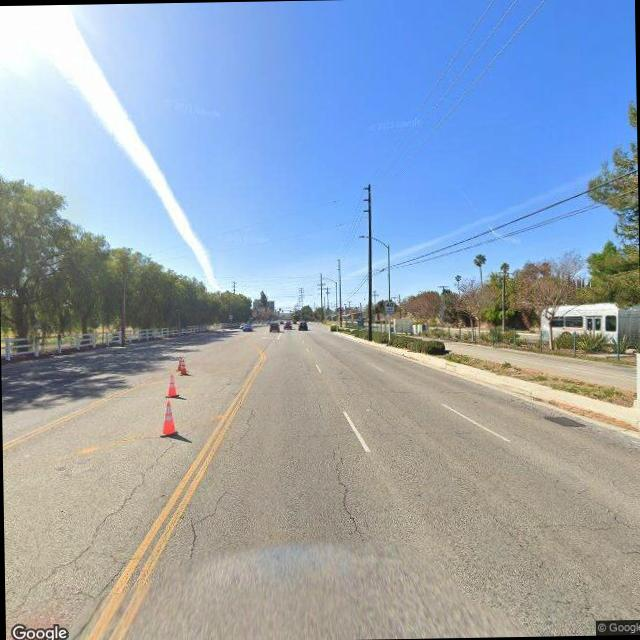pothole: (7, 438, 174, 608), (182, 484, 231, 560), (327, 444, 364, 541), (234, 404, 256, 444)
